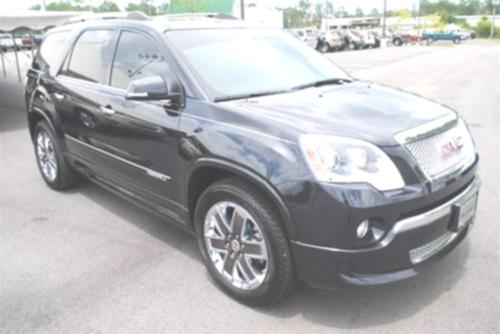GMC: (431, 131, 480, 164)
